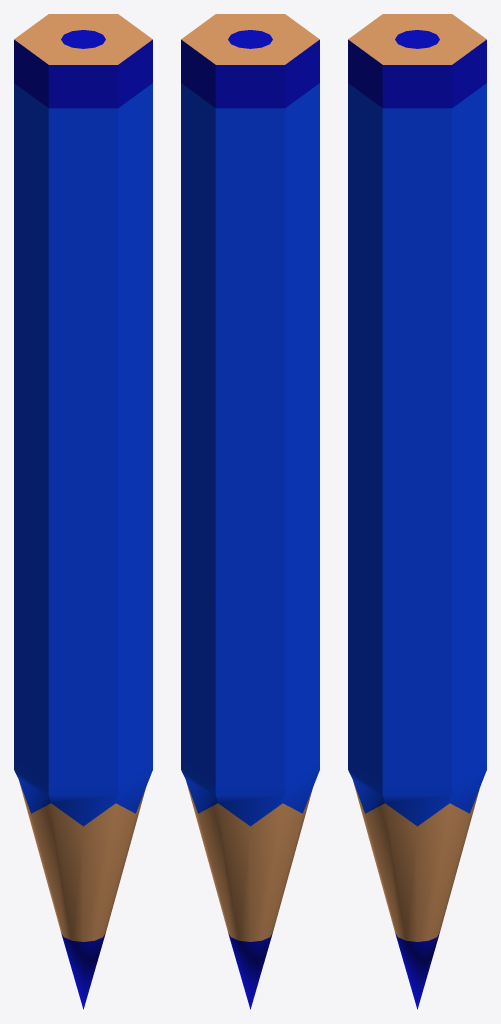
The model's file is Blue Pencile.fbx.
3 views of the same model, side by side, from view 1: azimuth 90°, elevation 25°; view 2: azimuth 150°, elevation 25°; view 3: azimuth 330°, elevation 25° (orthographic).
Parts seen in each view (by area): view 1: Cylinder.001; view 2: Cylinder.001; view 3: Cylinder.001.
Part boxes in pixels (x1=…): Cylinder.001: x1=14, y1=14, x2=152, y2=1009; Cylinder.001: x1=181, y1=14, x2=319, y2=1009; Cylinder.001: x1=348, y1=14, x2=486, y2=1009.
Bounding box in the file's own units: 174 × 1542 × 200.
